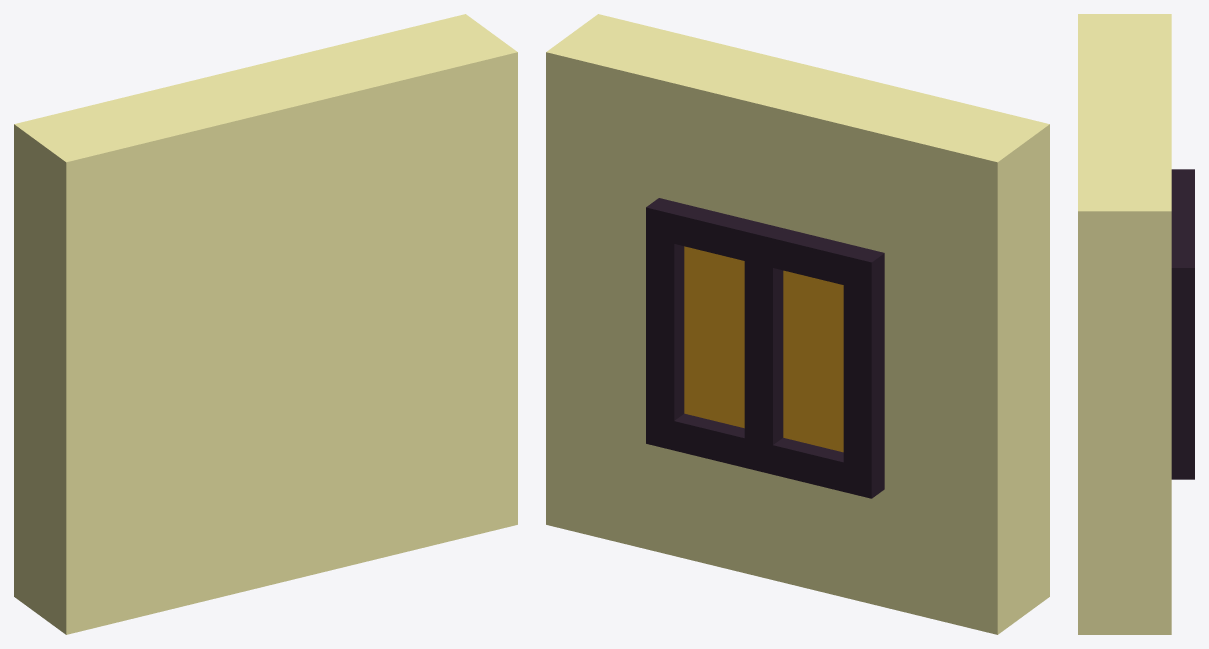
Rendered from Window.fbx.
3 views of the same model, side by side, from view 1: azimuth 30°, elevation 25°; view 2: azimuth 150°, elevation 25°; view 3: azimuth 270°, elevation 25° (orthographic). The views are drawn at different scales.
Visible parts, largest first — view 1: Window; view 2: Window; view 3: Window.
Part boxes in pixels (x1,y1,x2,y2): Window: [14, 14, 517, 634]; Window: [546, 14, 1049, 634]; Window: [1078, 14, 1194, 634].
Size of the model in its own units: 200 by 200 by 50.
